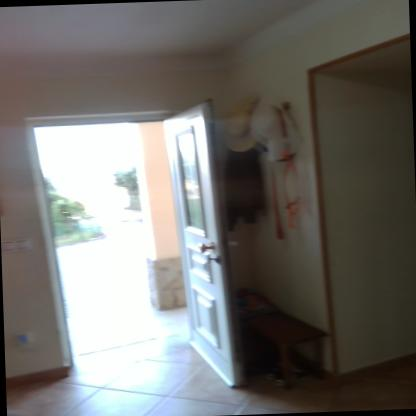open: (16, 77, 236, 415)
